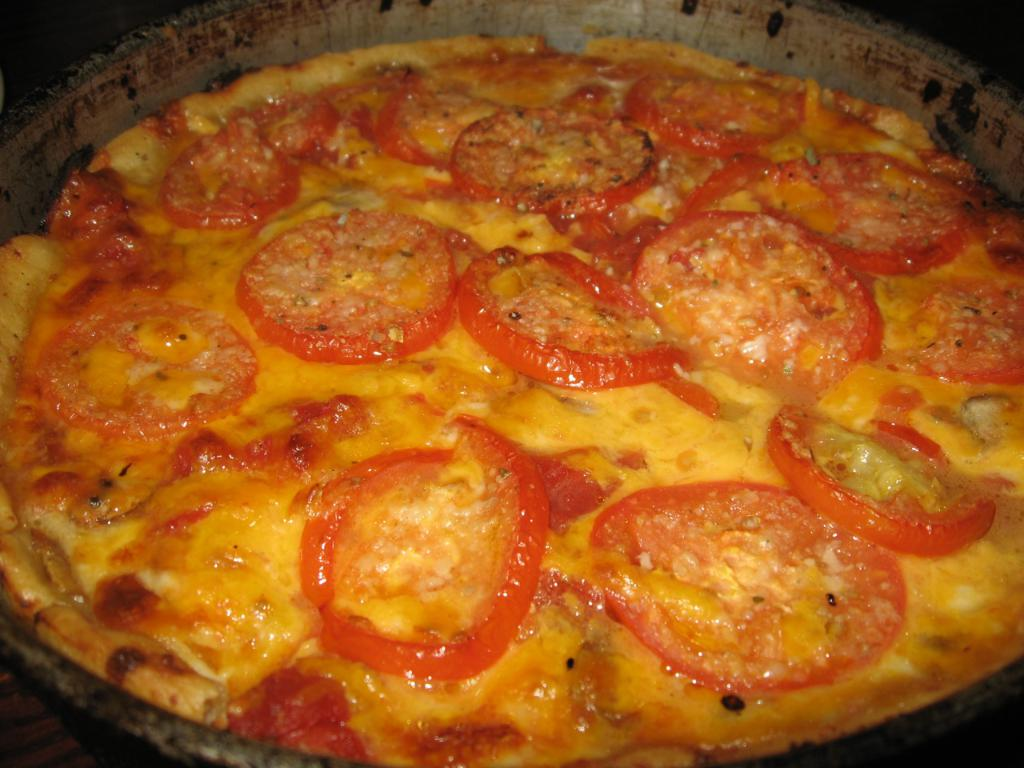Pizza: (0, 23, 1024, 750)
